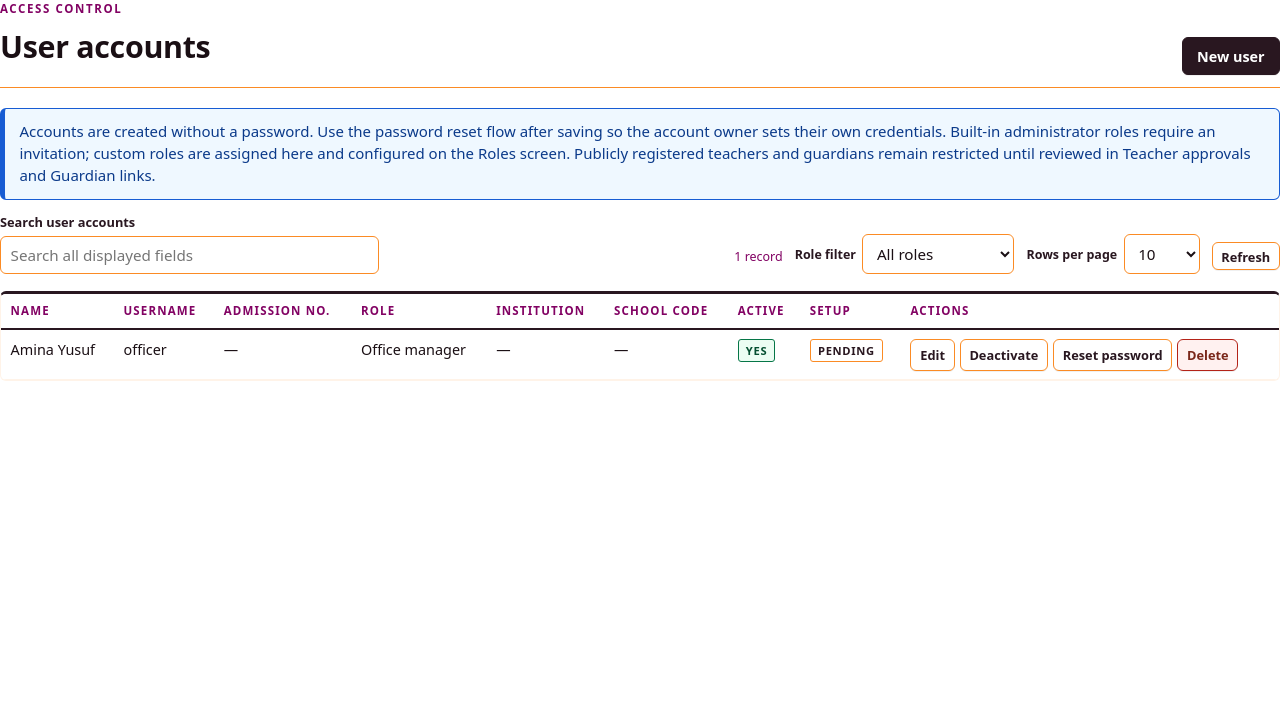
Test: Users custom role assignment › copies the temporary password from the result dialog
The image size is (1280, 720).
Later steps or results of the test are not shown.
Click the button with aria-label "Reset password for Amina Yusuf".
click(1113, 355)  # box x1=1053 y1=339 x2=1172 y2=371
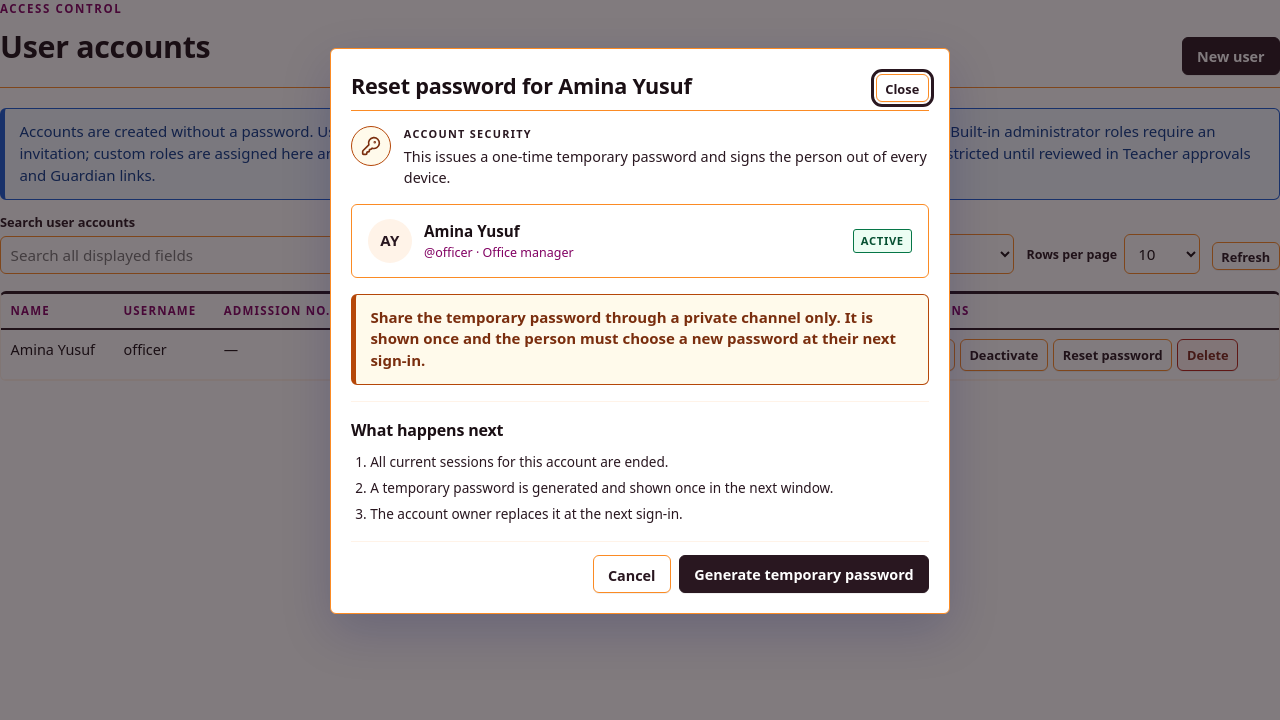
Click the button "Generate temporary password".
click(804, 574)  # box x1=679 y1=555 x2=929 y2=593
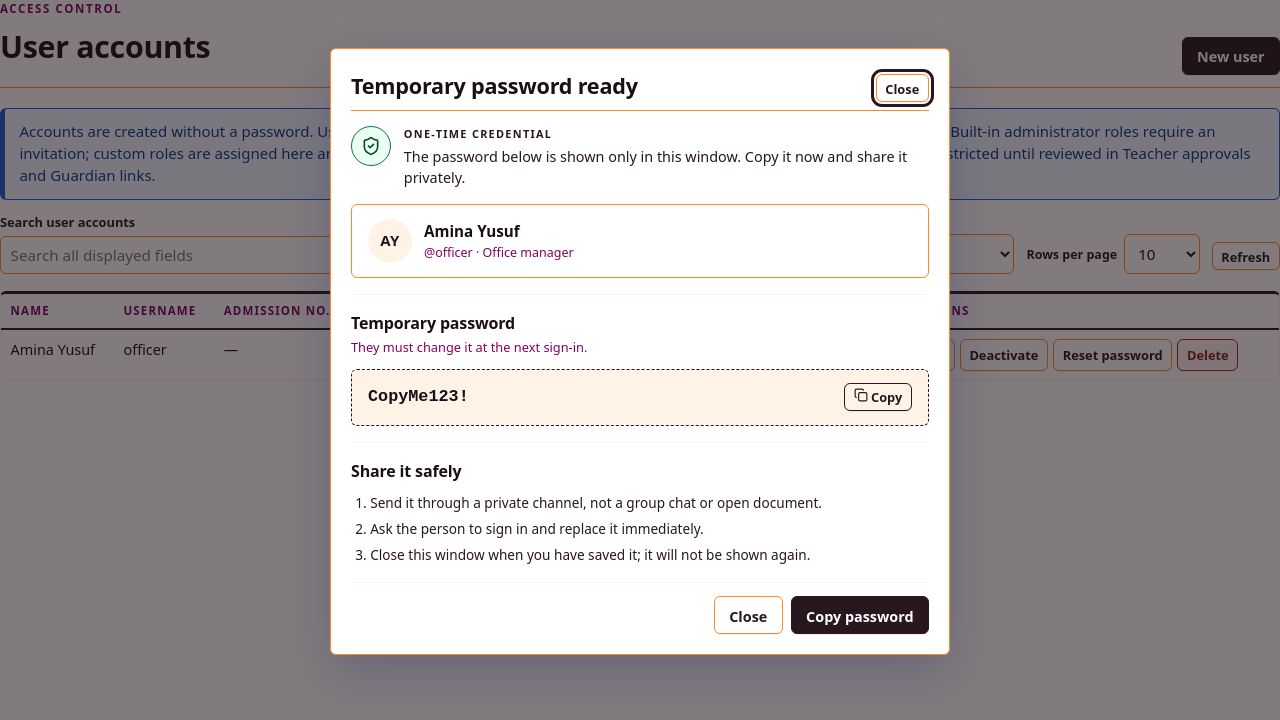
Result: the text "CopyMe123!" is shown at x1=368 y1=384 x2=469 y2=410
